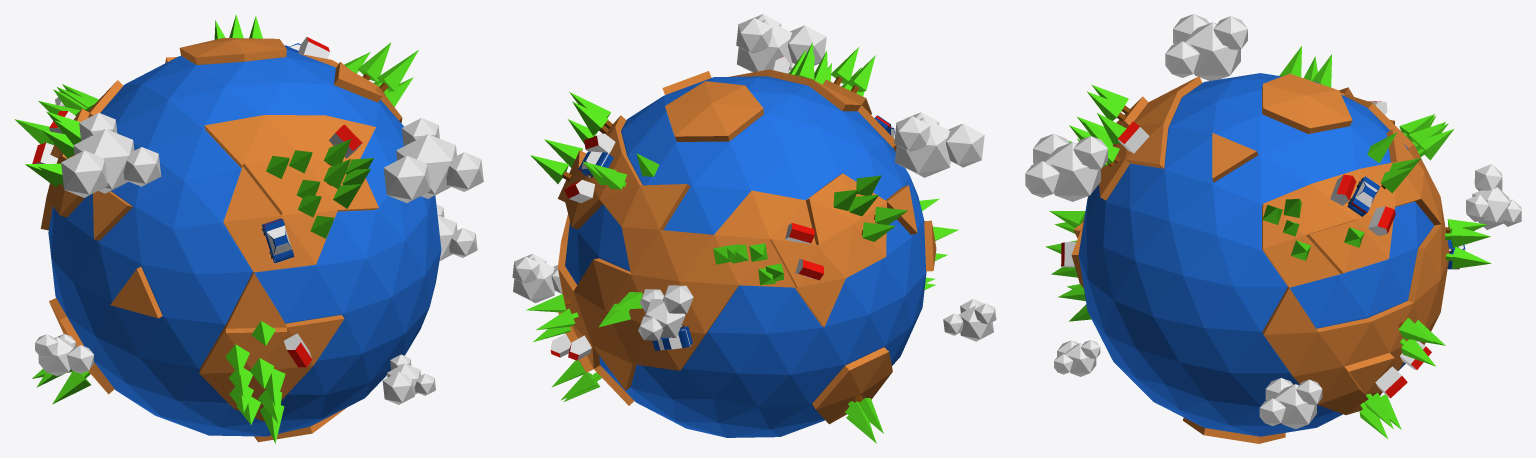
3 views of the same model, side by side, from view 1: azimuth 30°, elevation 25°; view 2: azimuth 150°, elevation 25°; view 3: azimuth 270°, elevation 25° (orthographic). The views are drawn at different scales.
Visible parts, largest first — view 1: Icosphere, Icosphere.002, Icosphere.018, Icosphere.001, Icosphere.005, Icosphere.021, Icosphere.019, Icosphere.003, Icosphere.009, Icosphere.022, Icosphere.004, Icosphere.020 (+7 smaller); view 2: Icosphere, Icosphere.002, Icosphere.018, Icosphere.001, Icosphere.021, Icosphere.005, Icosphere.014, Icosphere.004, Icosphere.020, Icosphere.010, Icosphere.013, Icosphere.022 (+4 smaller); view 3: Icosphere, Icosphere.002, Icosphere.001, Icosphere.018, Icosphere.014, Icosphere.003, Icosphere.019, Icosphere.020, Icosphere.004, Icosphere.010, Icosphere.013, Icosphere.005 (+9 smaller).
Boxes of the visible parts, x1,y1,x2,y2 form: Icosphere: (48,49,441,436); Icosphere.002: (40,38,402,442); Icosphere.018: (73,129,134,193); Icosphere.001: (396,134,456,198); Icosphere.005: (383,155,430,202); Icosphere.021: (61,150,107,197); Icosphere.019: (123,147,161,186); Icosphere.003: (446,152,483,191); Icosphere.009: (382,372,414,404); Icosphere.022: (38,337,73,376); Icosphere.004: (401,118,439,146); Icosphere.020: (79,112,117,140); Icosphere: (565,76,926,437); Icosphere.002: (558,69,936,424); Icosphere.018: (894,117,950,177); Icosphere.001: (737,19,792,72); Icosphere.021: (946,123,984,167); Icosphere.005: (788,25,826,65); Icosphere.014: (513,258,555,303); Icosphere.004: (736,18,772,53); Icosphere.020: (894,116,930,151); Icosphere.010: (644,299,685,337); Icosphere.013: (662,285,693,313); Icosphere.022: (958,305,993,341); Icosphere: (1078,73,1434,436); Icosphere.002: (1071,73,1449,443); Icosphere.001: (1045,142,1100,201); Icosphere.018: (1185,22,1240,80); Icosphere.014: (1275,384,1316,429); Icosphere.003: (1025,161,1059,197); Icosphere.019: (1165,41,1199,77); Icosphere.020: (1213,16,1247,50); Icosphere.004: (1073,136,1107,170); Icosphere.010: (1472,187,1509,229); Icosphere.013: (1474,164,1502,190); Icosphere.005: (1033,134,1069,163).
Size of the model in its own units: 2.63 by 1.97 by 2.58.
